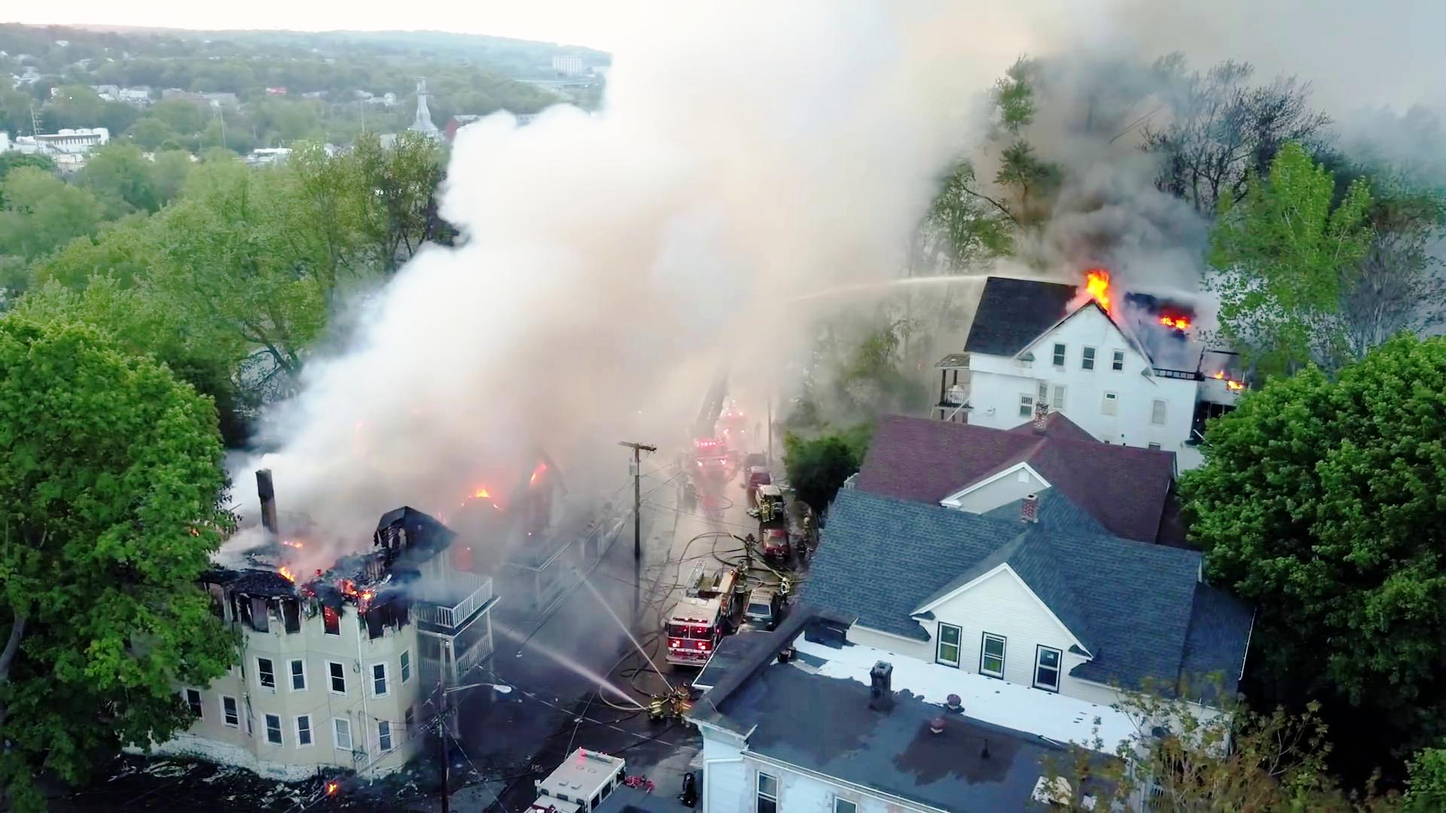fire: (1055, 241, 1117, 324)
